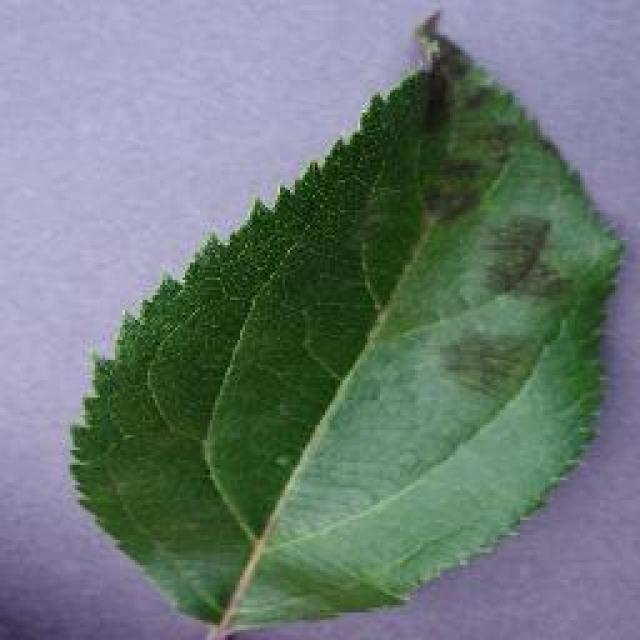apple scab disease: (65, 5, 627, 637)
